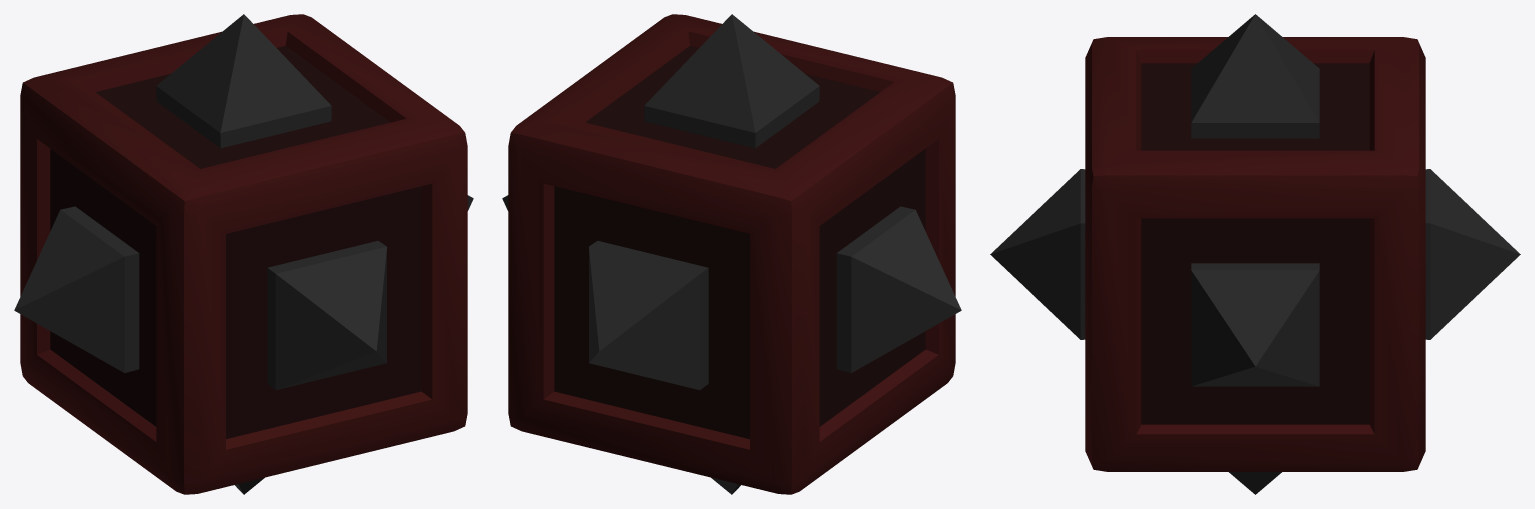
The model's file is Cube_Spikes.fbx.
The picture shows the model from 3 angles, left to right: view 1: azimuth 30°, elevation 25°; view 2: azimuth 150°, elevation 25°; view 3: azimuth 270°, elevation 25°; orthographic projection.
Parts seen in each view (by area): view 1: Cube_Spikes; view 2: Cube_Spikes; view 3: Cube_Spikes.
Part boxes in pixels (box(x1,y1,x2,y2)): Cube_Spikes: box(14, 14, 473, 494); Cube_Spikes: box(502, 14, 961, 494); Cube_Spikes: box(990, 14, 1520, 494).
Size of the model in its own units: 315 by 315 by 315.
